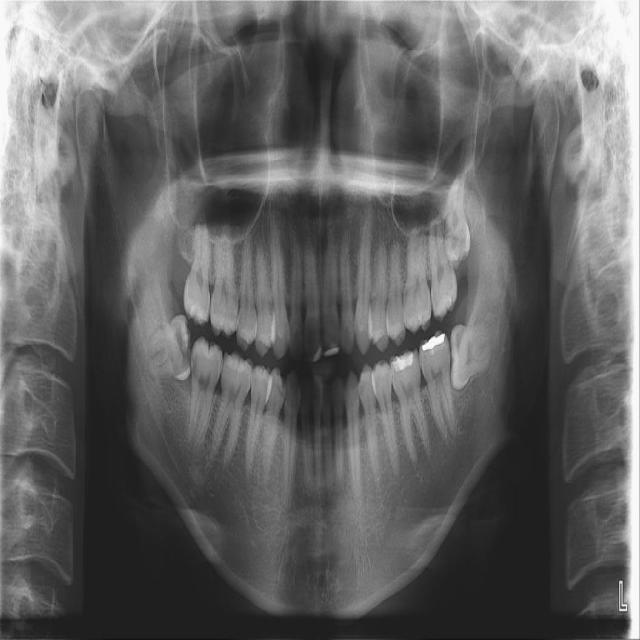Filling: (419, 332, 449, 357), (391, 350, 417, 370), (191, 301, 206, 320)
impacted tooth: (449, 321, 500, 389), (145, 314, 192, 381), (444, 166, 473, 266)
